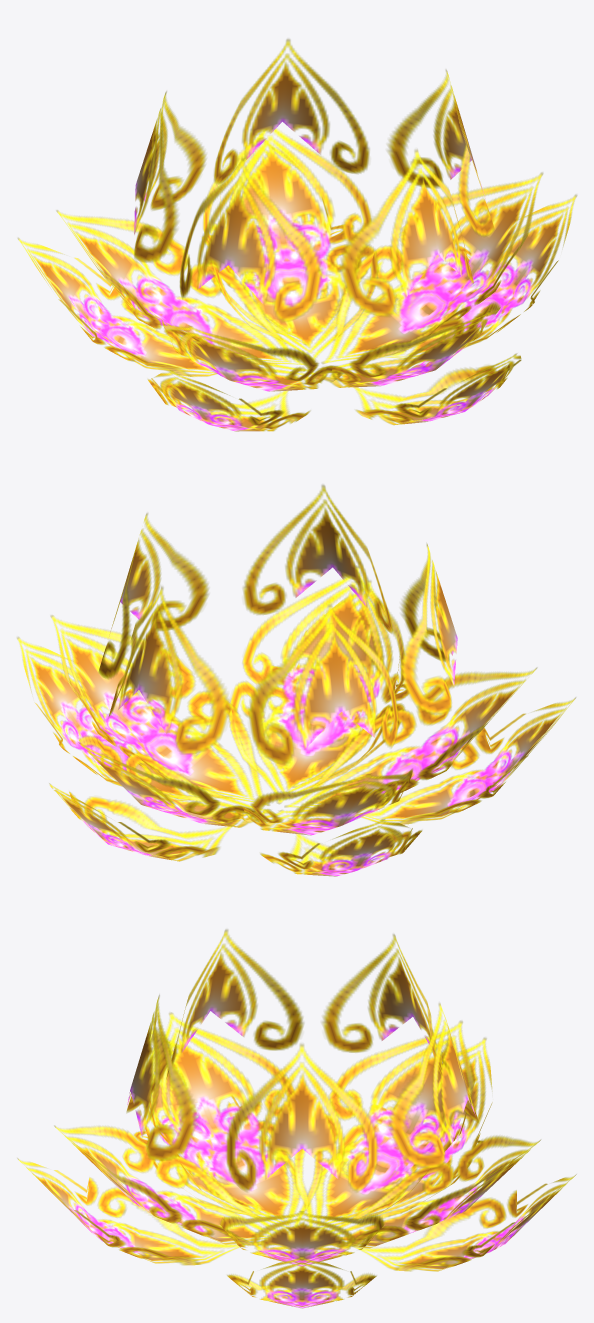
File: Lotus_02.glb
3 views of the same model, one above another, from view 1: azimuth 30°, elevation 25°; view 2: azimuth 150°, elevation 25°; view 3: azimuth 270°, elevation 25° (orthographic). The views are drawn at different scales.
Visible parts, largest first — view 1: Lotus_02; view 2: Lotus_02; view 3: Lotus_02.
Boxes of the visible parts, <box> form: Lotus_02: <box>18,39,576,431</box>; Lotus_02: <box>17,485,575,876</box>; Lotus_02: <box>17,929,576,1308</box>.
Size of what is drawn, in the model's own units: 1.31 by 0.7756 by 1.35.
1 material, 1 textured.
